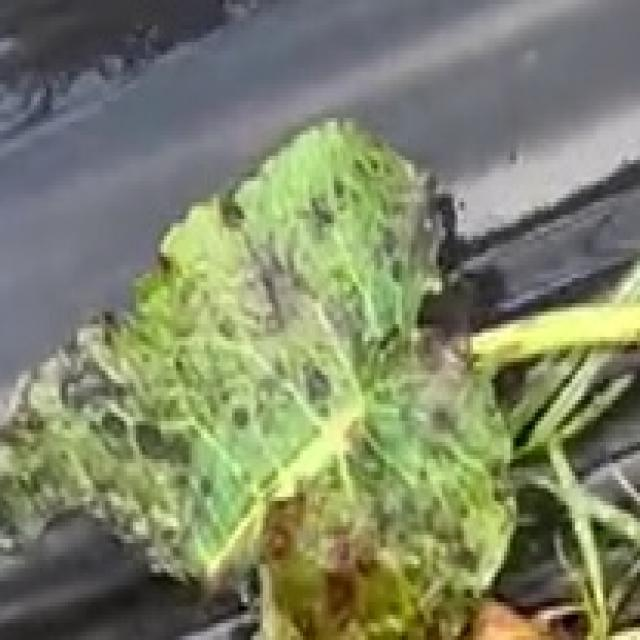organic waste: (10, 101, 612, 632)
